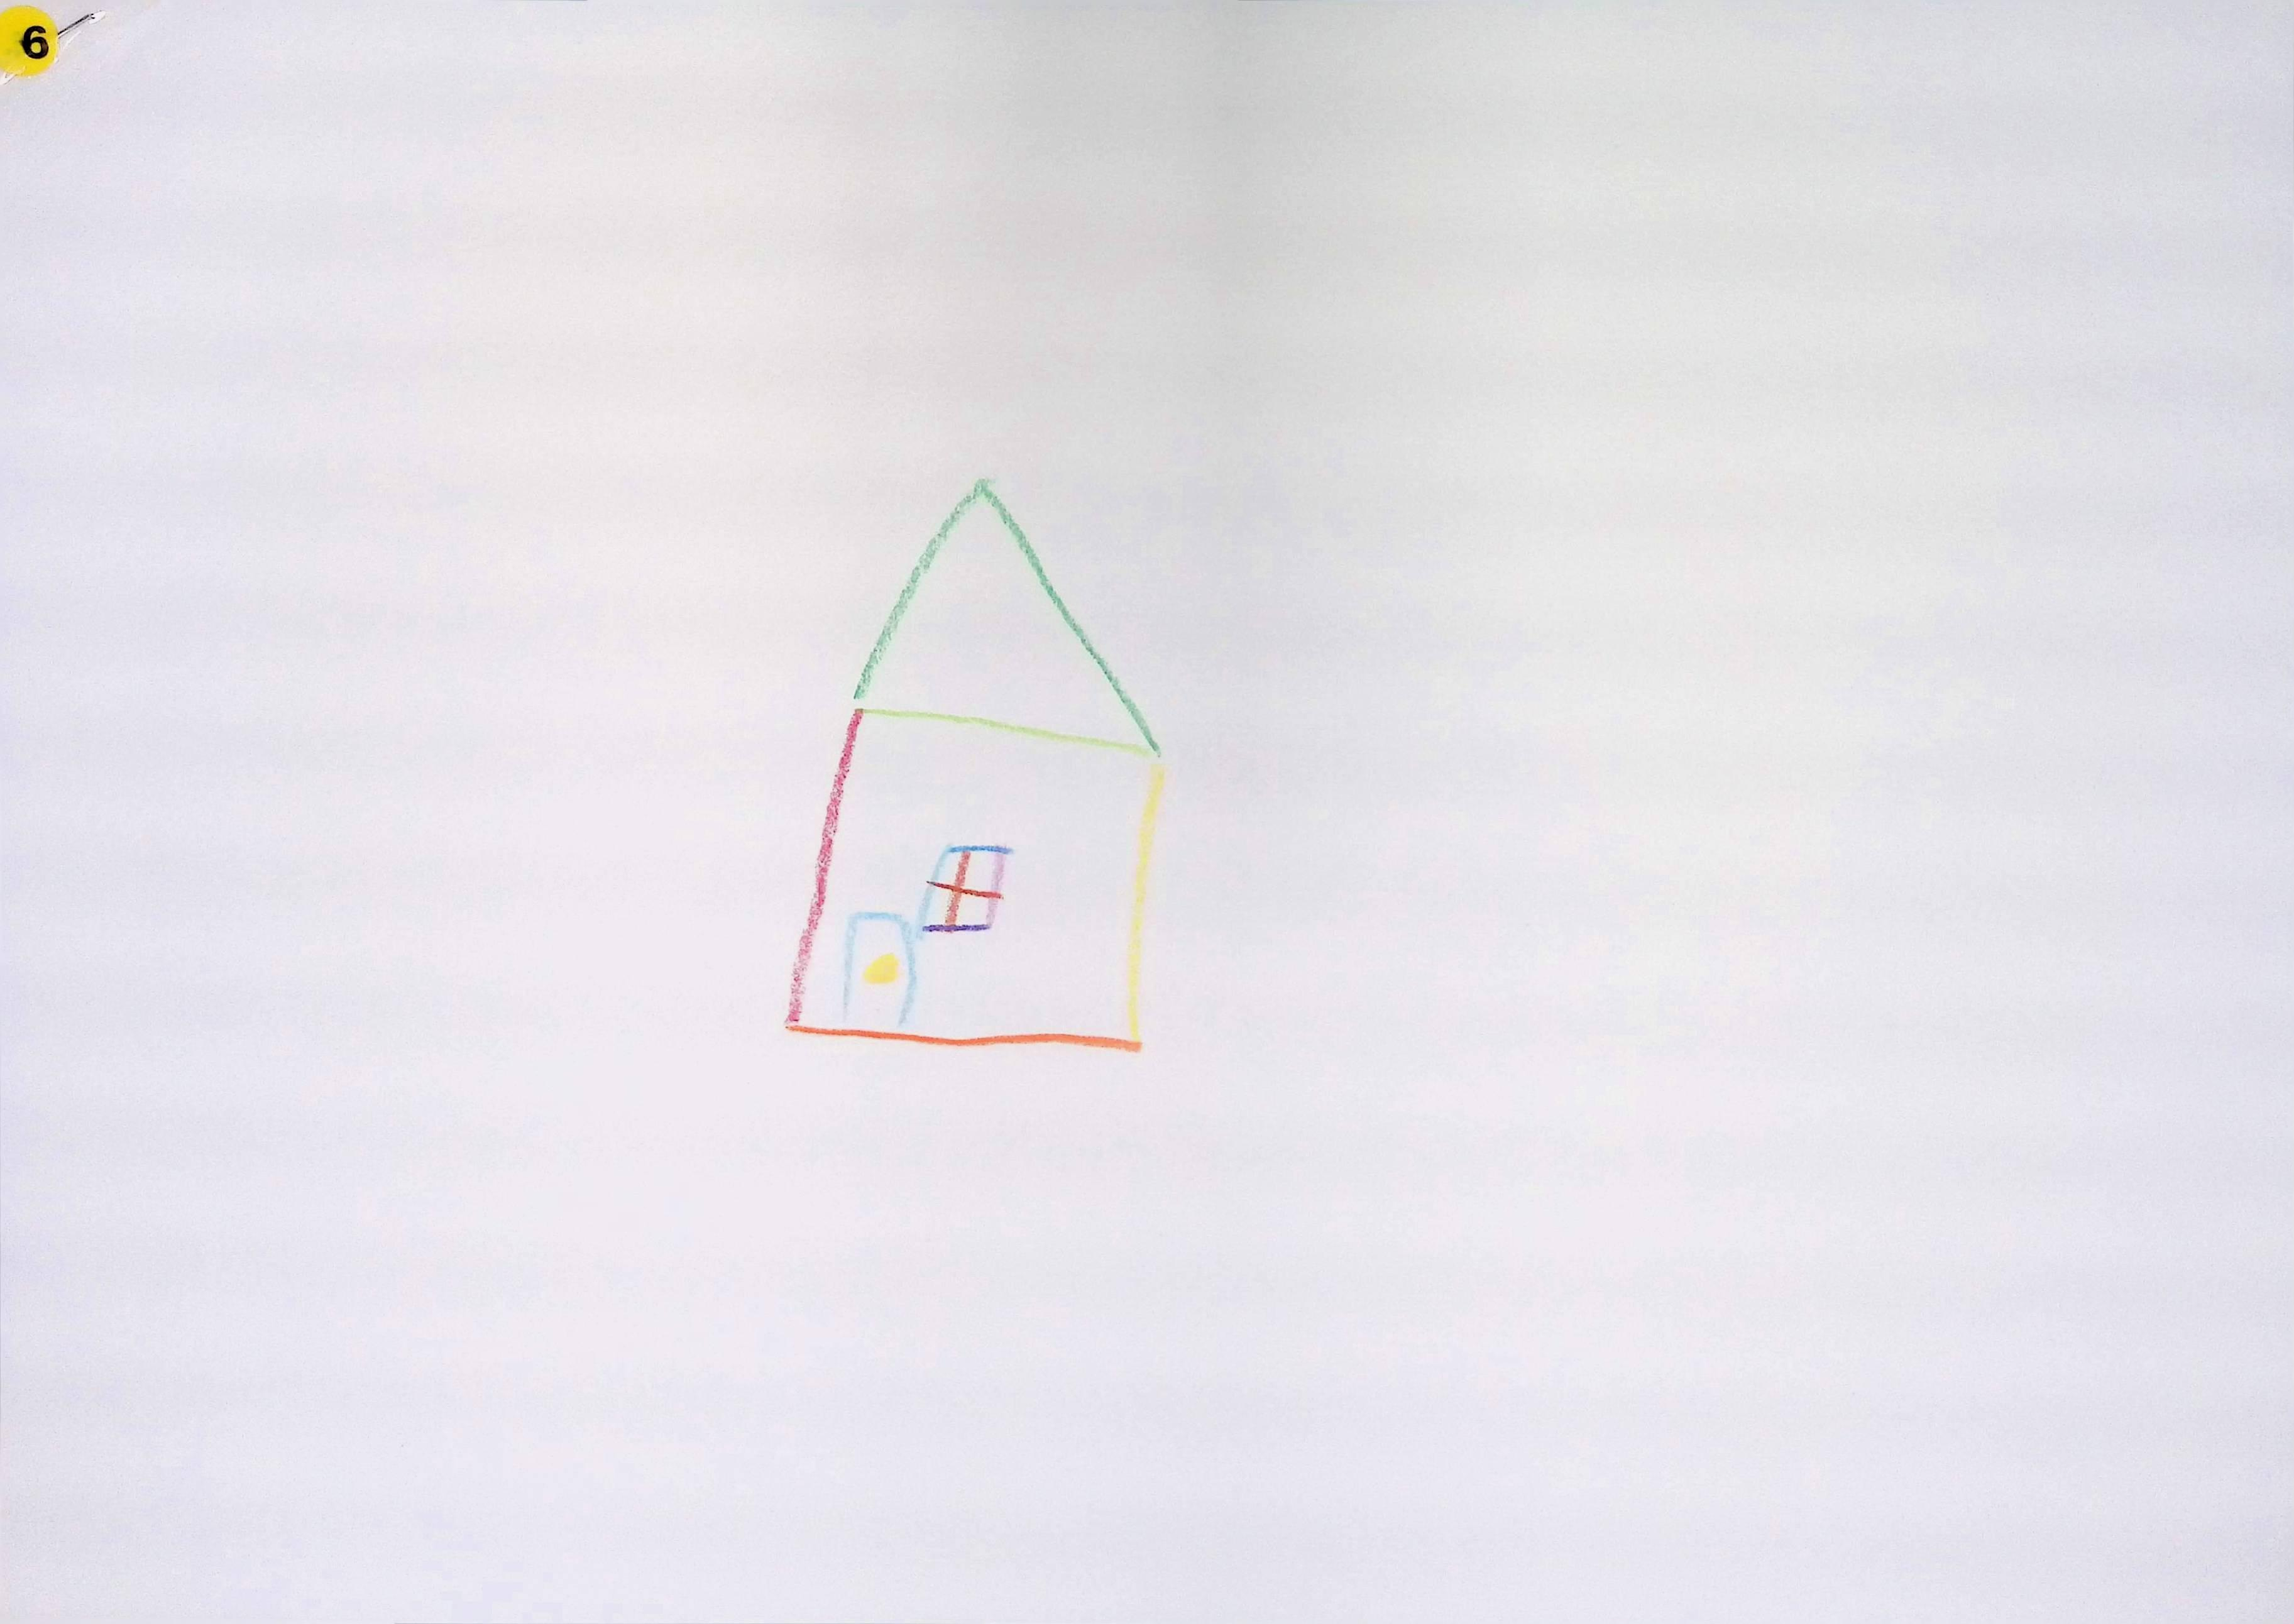door: (842, 912, 914, 1030)
house: (788, 480, 1165, 1049)
roof: (854, 480, 1157, 747)
wall: (788, 708, 1164, 1046)
window: (921, 845, 1007, 932)
